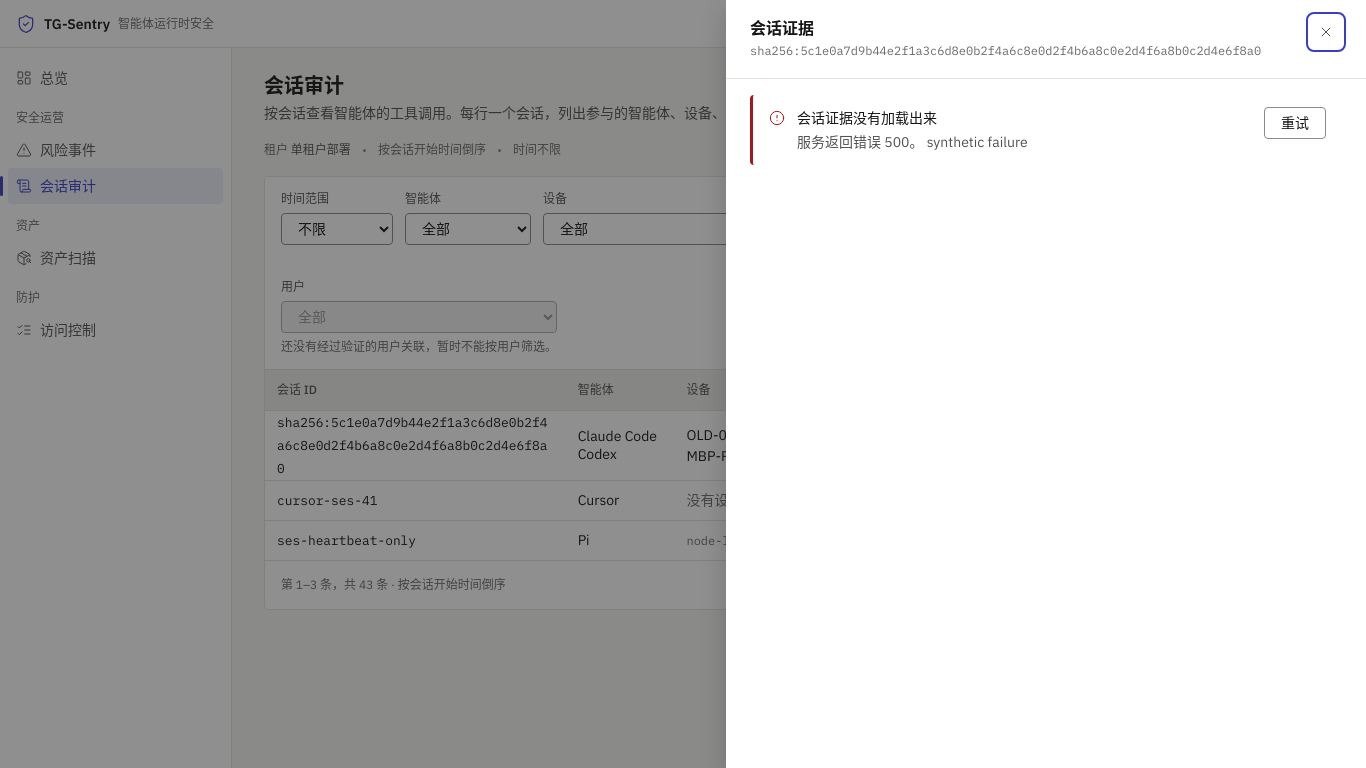
Scenario: session evidence drawer › shows an error and retries the same session query
Expected: the message shows "会话证据没有加载出来", [797,109,937,127]
Click the button "重试": (1295, 123) [1264,107,1326,139]
(page scrolled)
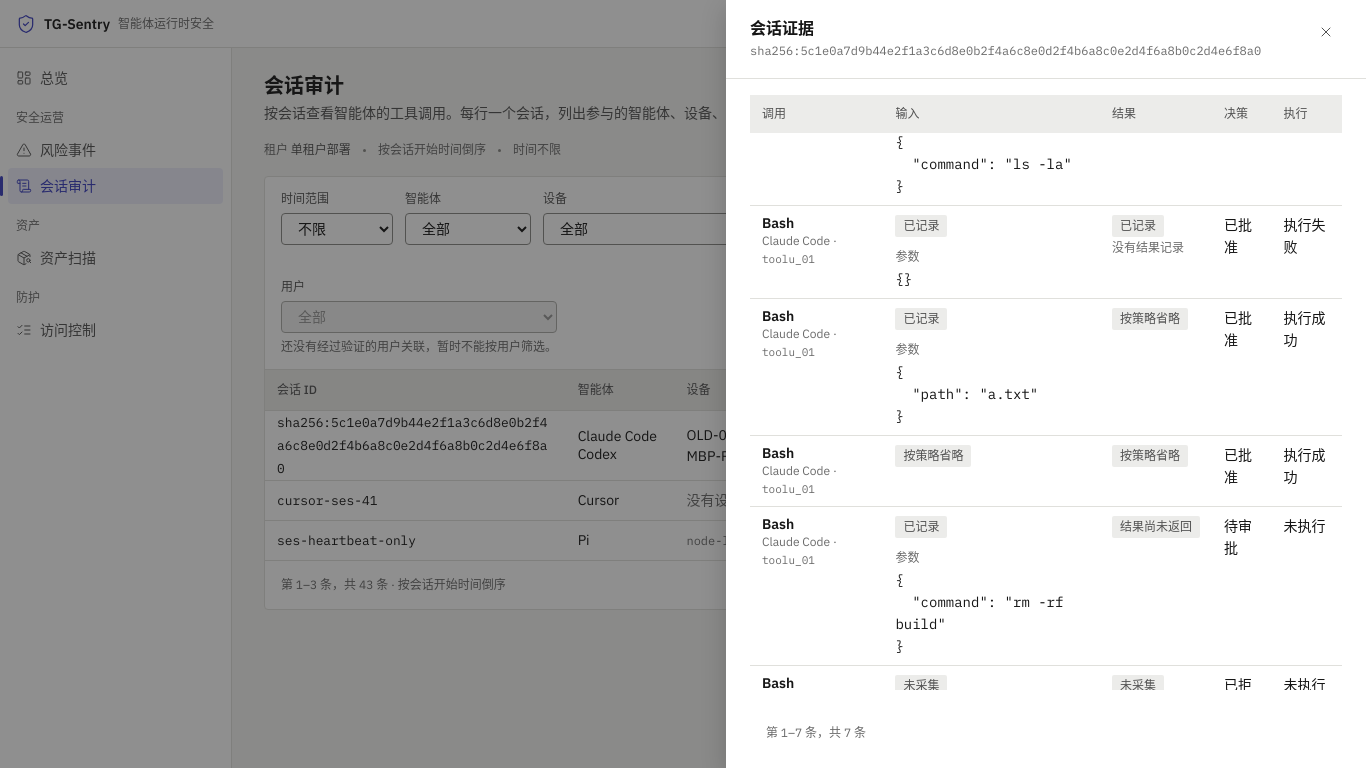
Expected: the table named "会话调用记录" is shown, [750,95,1342,690]
